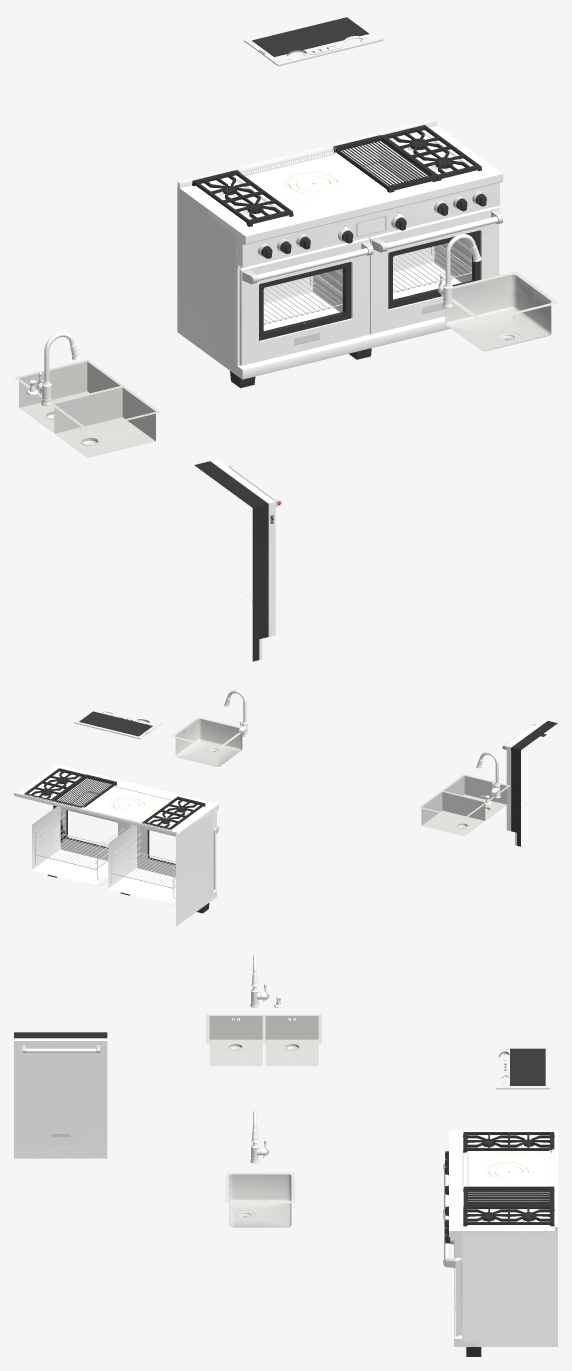
The model's file is Back_up.gltf.
The picture shows the model from 3 angles, top to bottom: view 1: azimuth 30°, elevation 25°; view 2: azimuth 150°, elevation 25°; view 3: azimuth 270°, elevation 25°; orthographic projection. The views are drawn at different scales.
Parts seen in each view (by area): view 1: Range_Cooker_Range_Cooker_Range_Cooker_Range_Cooker; view 2: Range_Cooker_Range_Cooker_Range_Cooker_Range_Cooker; view 3: Range_Cooker_Range_Cooker_Range_Cooker_Range_Cooker.
Part boxes in pixels (x1,y1,x2,y2): Range_Cooker_Range_Cooker_Range_Cooker_Range_Cooker: (14,17,557,661); Range_Cooker_Range_Cooker_Range_Cooker_Range_Cooker: (14,690,557,926); Range_Cooker_Range_Cooker_Range_Cooker_Range_Cooker: (14,955,557,1356).
Bounding box in the file's own units: 3448 × 1684 × 3494.
Materials: 1 (1 with a texture image).
